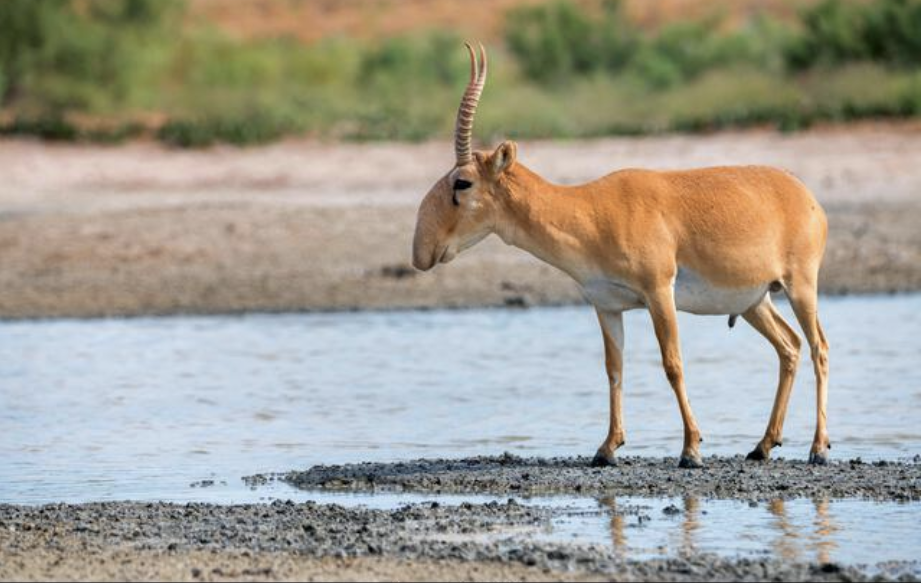saiga: (385, 32, 848, 464)
